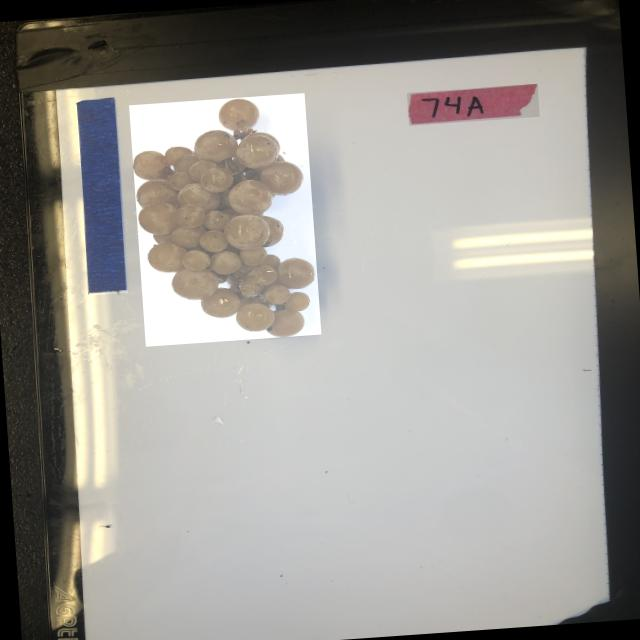grape_cluster: (129, 92, 321, 346)
index: (406, 84, 540, 125)
measure_label: (75, 97, 128, 296)
